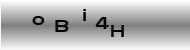4: (94, 16, 109, 30)
B: (53, 19, 69, 33)
H: (110, 24, 125, 38)
i: (81, 7, 87, 22)
o: (31, 14, 45, 26)
